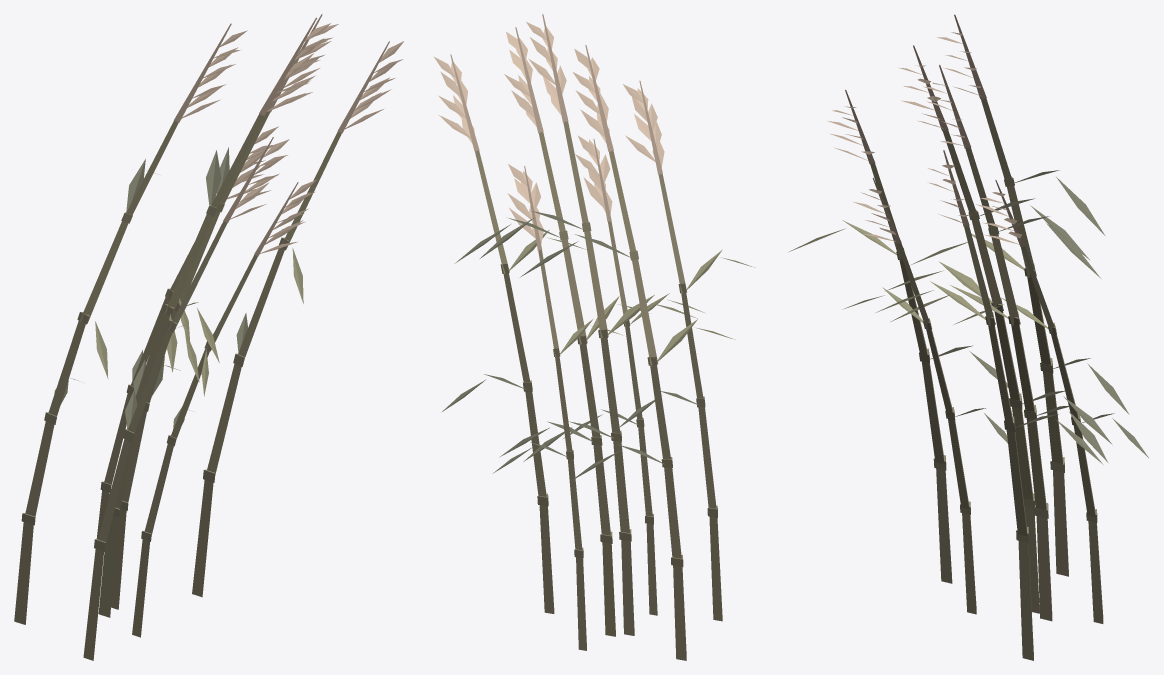
The model's file is shui.luweicong__winter.glb.
3 renders of one model, left to right at view 1: azimuth 30°, elevation 25°; view 2: azimuth 150°, elevation 25°; view 3: azimuth 270°, elevation 25°, orthographic. The views are drawn at different scales.
Parts seen in each view (by area): view 1: shui.luweicong__winter; view 2: shui.luweicong__winter; view 3: shui.luweicong__winter.
Boxes of the visible parts, <box> form: shui.luweicong__winter: <box>14,14,403,660</box>; shui.luweicong__winter: <box>433,14,755,660</box>; shui.luweicong__winter: <box>789,14,1148,660</box>.
Size of the model in its own units: 2.03 by 3.49 by 1.78.
